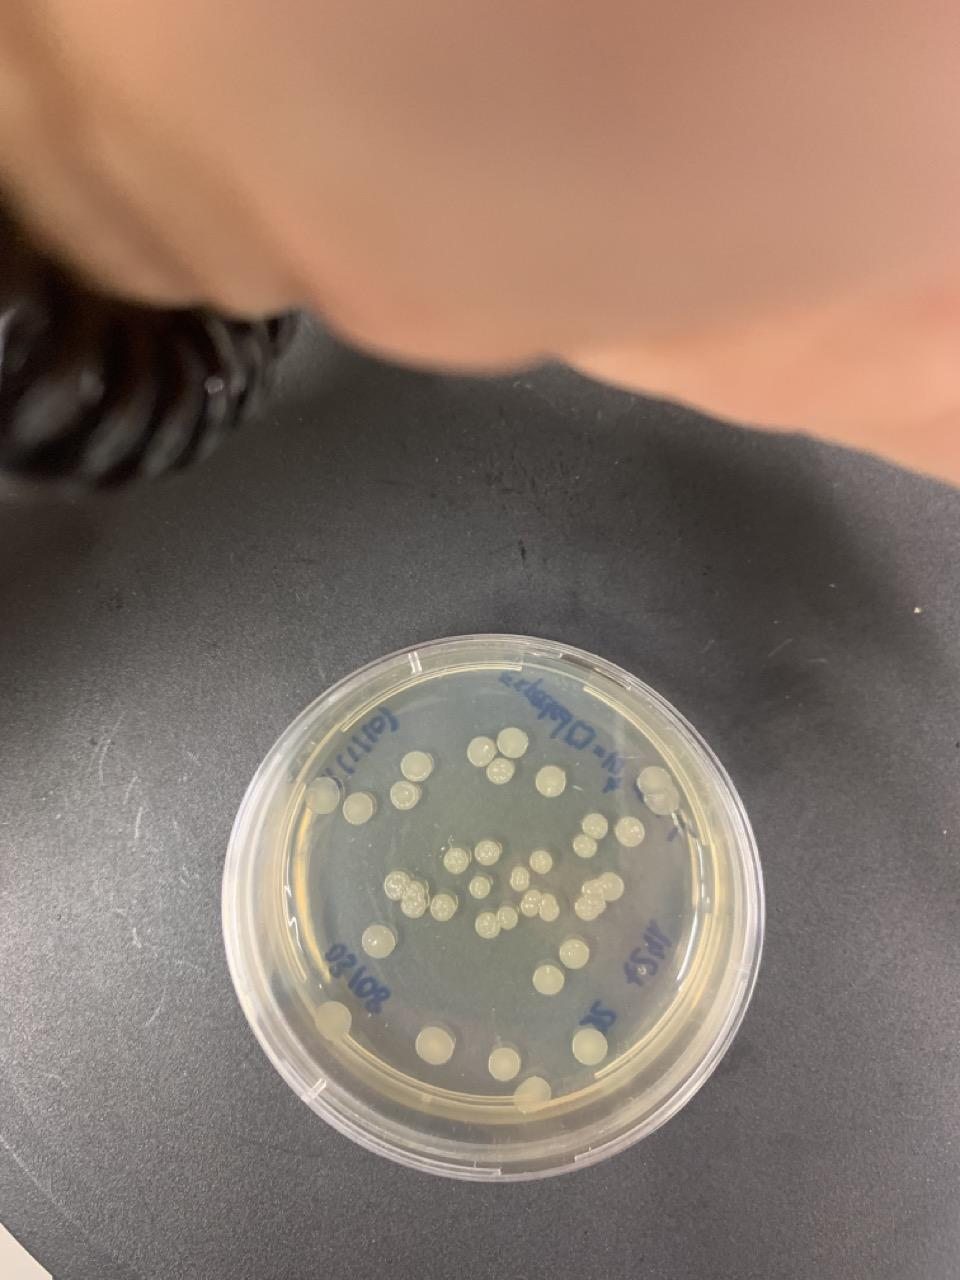colony: (574, 868, 626, 925), (383, 869, 429, 920), (637, 763, 682, 815), (415, 1023, 456, 1067), (473, 903, 518, 939), (511, 1075, 553, 1115), (314, 1000, 352, 1042), (572, 1026, 609, 1066), (304, 776, 341, 815), (361, 922, 397, 961), (521, 887, 560, 923), (613, 814, 647, 851), (487, 1045, 520, 1082), (341, 790, 375, 825), (496, 726, 530, 760), (532, 963, 566, 997), (533, 765, 567, 799), (399, 750, 434, 782), (389, 779, 422, 811), (559, 938, 590, 971), (466, 736, 496, 769), (486, 755, 516, 786), (443, 847, 470, 876), (430, 894, 457, 922), (583, 811, 609, 841), (475, 840, 501, 867), (573, 835, 599, 860), (529, 851, 554, 875), (469, 875, 491, 900), (509, 866, 530, 892)
